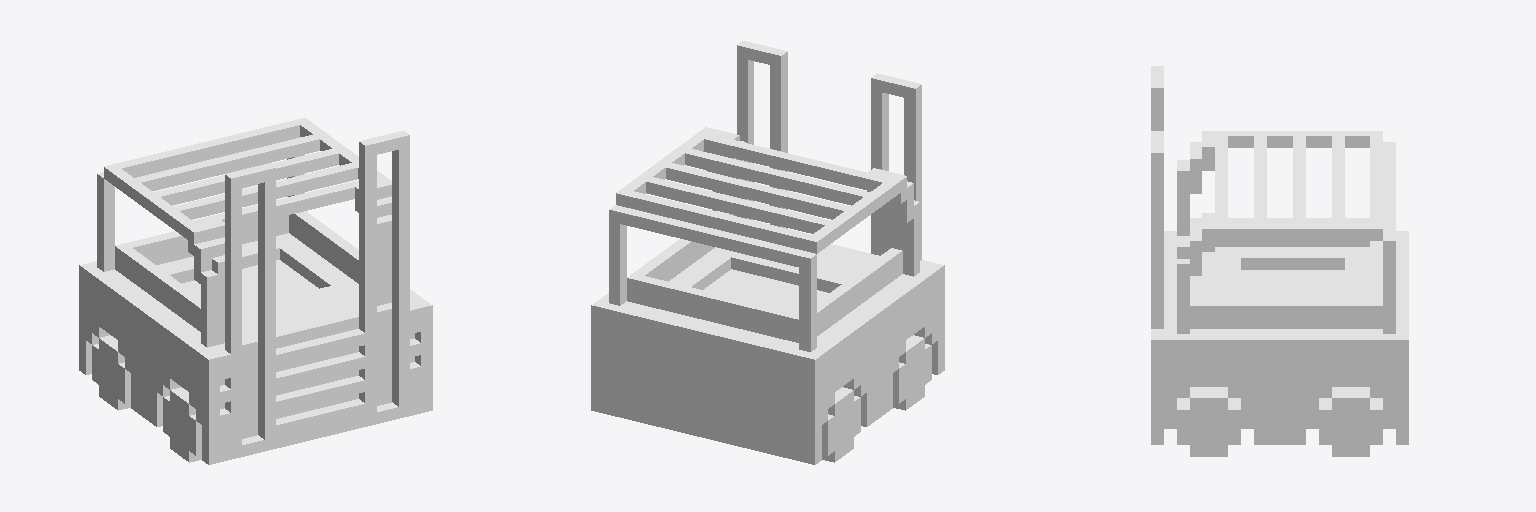
File: Forklift.obj
The picture shows the model from 3 angles: view 1: azimuth 30°, elevation 25°; view 2: azimuth 150°, elevation 25°; view 3: azimuth 270°, elevation 25°; orthographic projection.
Visible parts, largest first — view 1: Forklift; view 2: Forklift; view 3: Forklift.
Part boxes in pixels (x1,y1,x2,y2): Forklift: (79, 118, 432, 464); Forklift: (591, 41, 944, 464); Forklift: (1151, 66, 1408, 456).
Size of the model in its own units: 20 by 25 by 20.